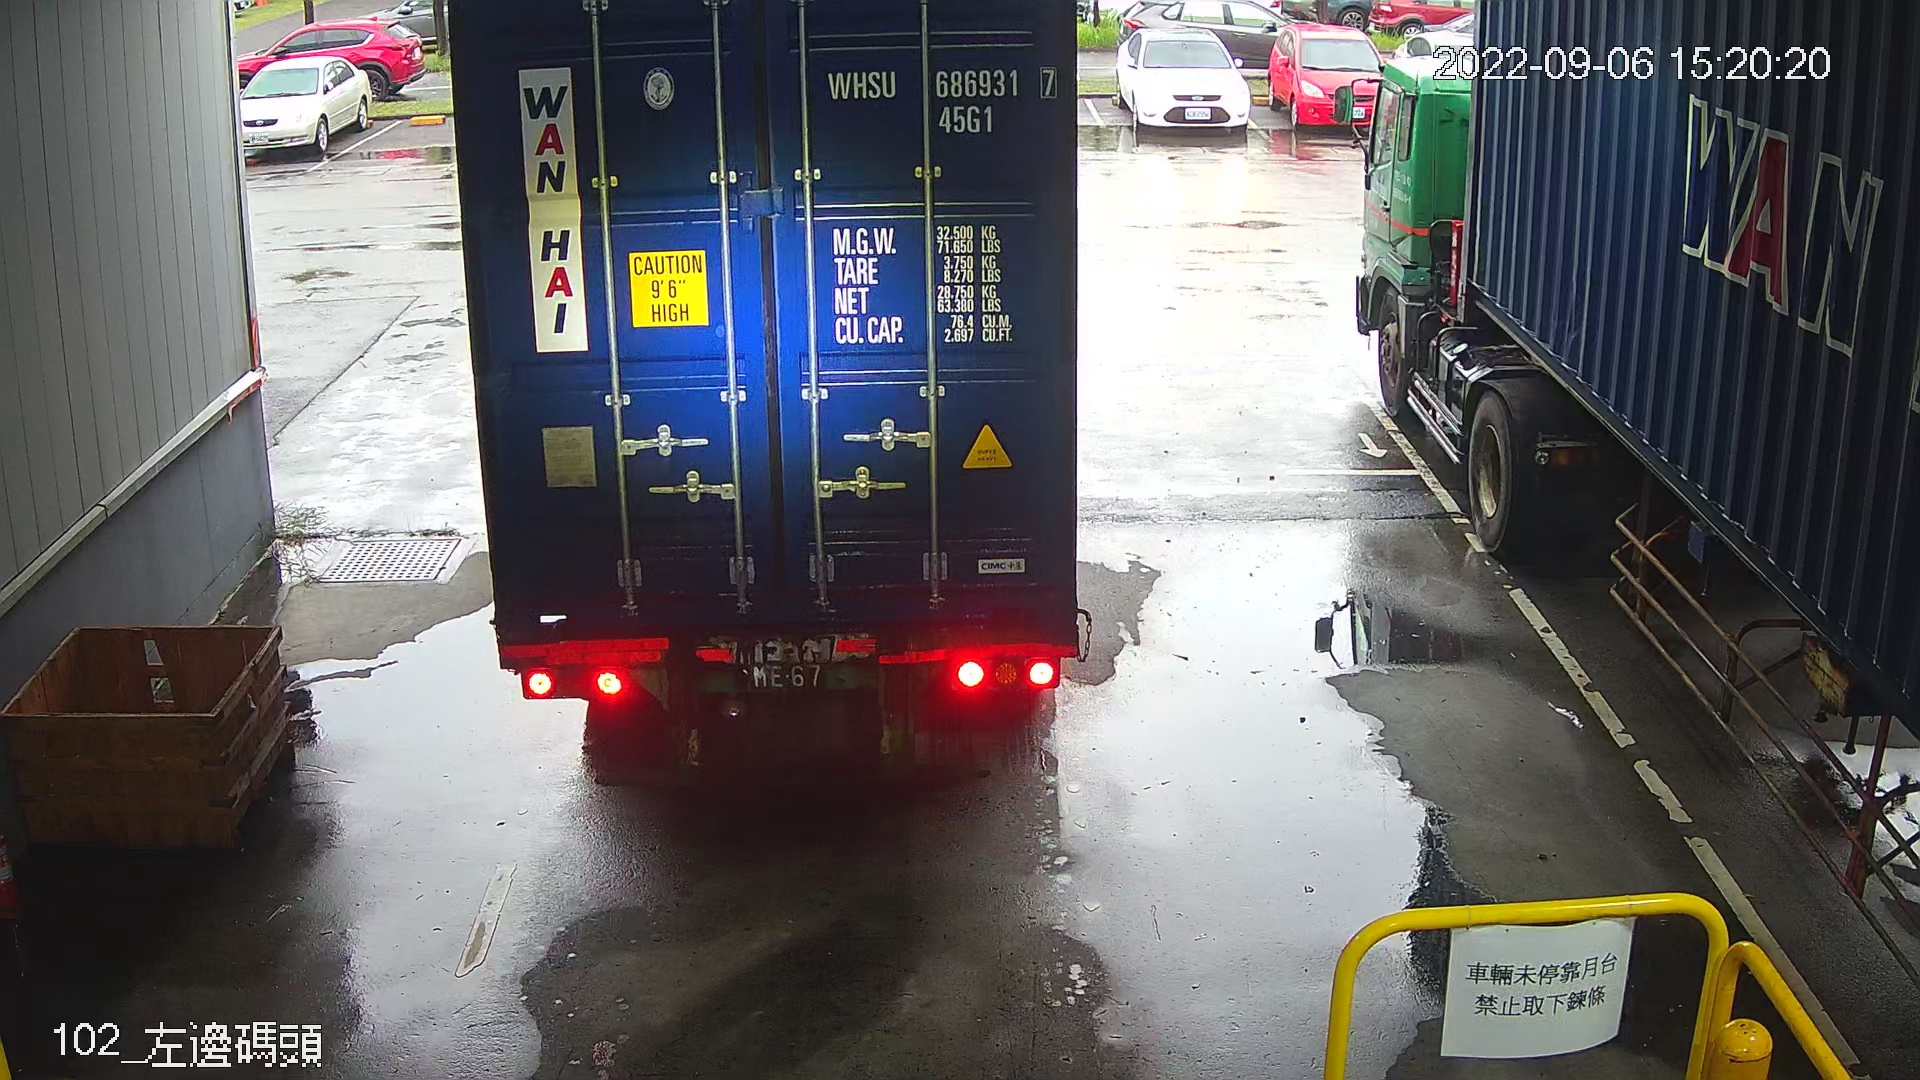container: (816, 55, 1065, 144)
